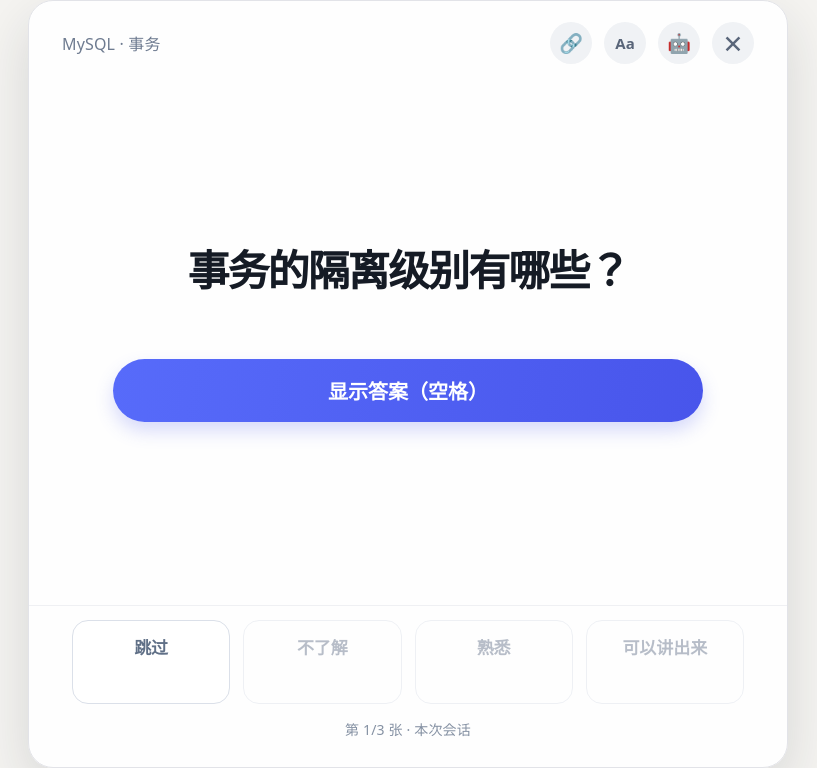
Scenario: Bug4：点「📝 备注」（SPEC §9.2 / §9.3） › 悬浮批注摘要条弹出全文浮层，移开后收起（2026-10-07 用户反馈）
Click the button "显示答案（空格）".
click(408, 390)  # box left=113, top=359, right=703, bottom=422
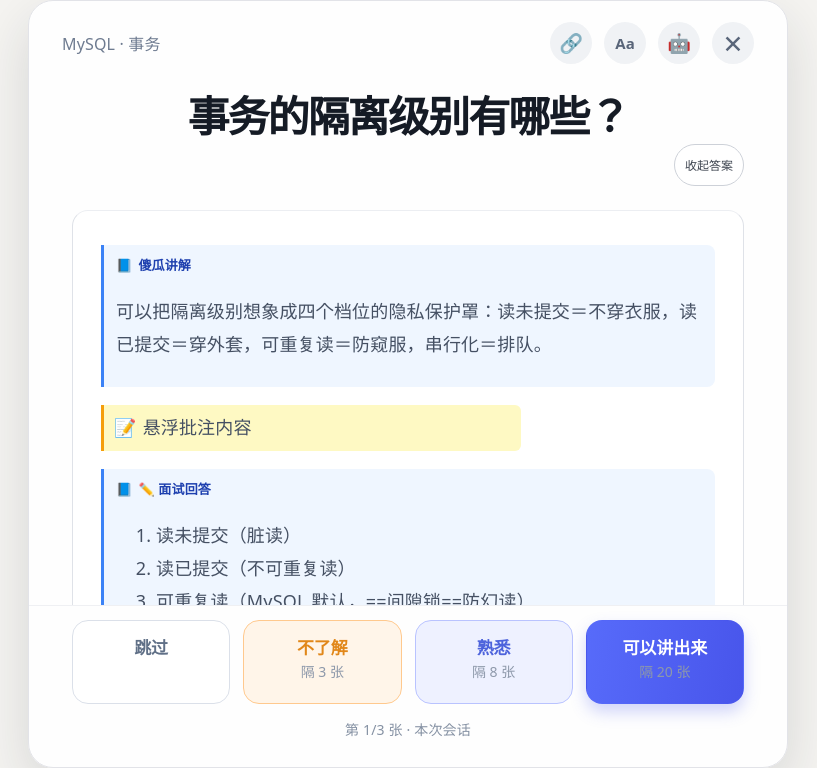
Hover over the text box with class "card-note".
mouse_move(311, 428)  # box left=101, top=405, right=521, bottom=450
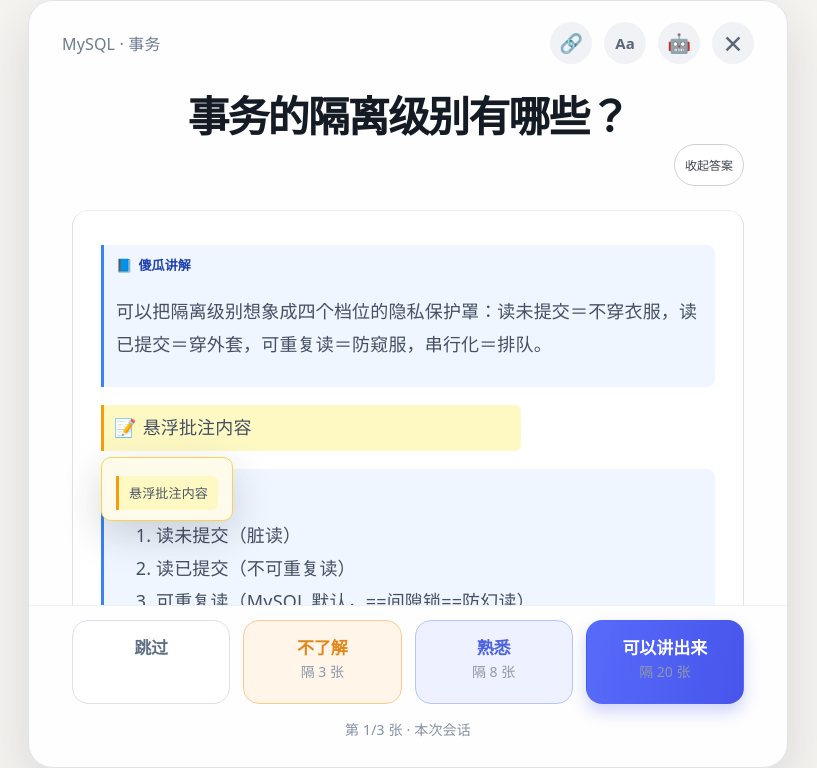
Check: the text "悬浮批注内容" is shown, box left=143, top=415, right=252, bottom=439
Check: the element with class "note-popover" is shown, box left=101, top=457, right=233, bottom=521
Move the pointer off the text box with class "card-note" showing "📝 悬浮批注内容", box left=101, top=405, right=521, bottom=450
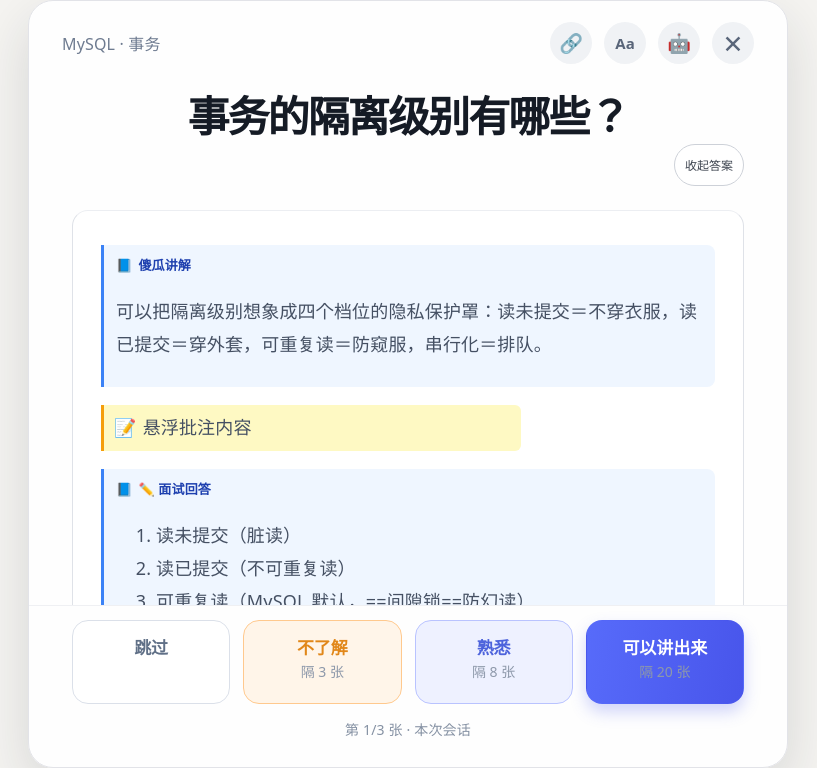
Check: the element with class "note-popover" is gone
